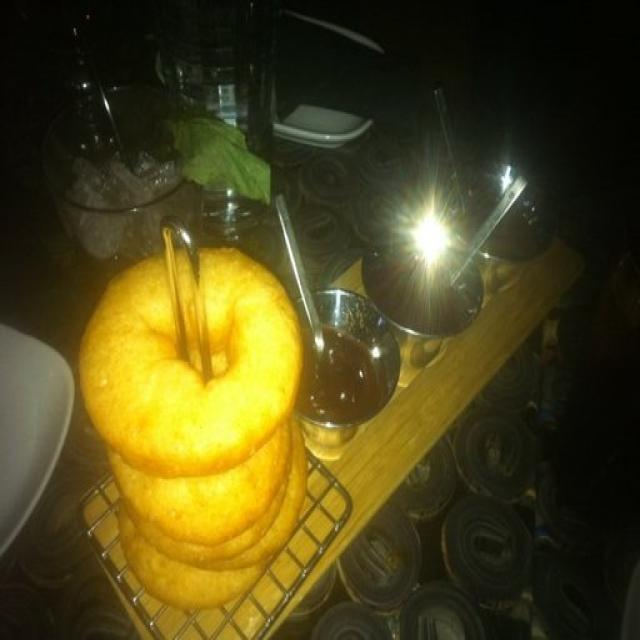Donuts: (64, 221, 310, 640)
